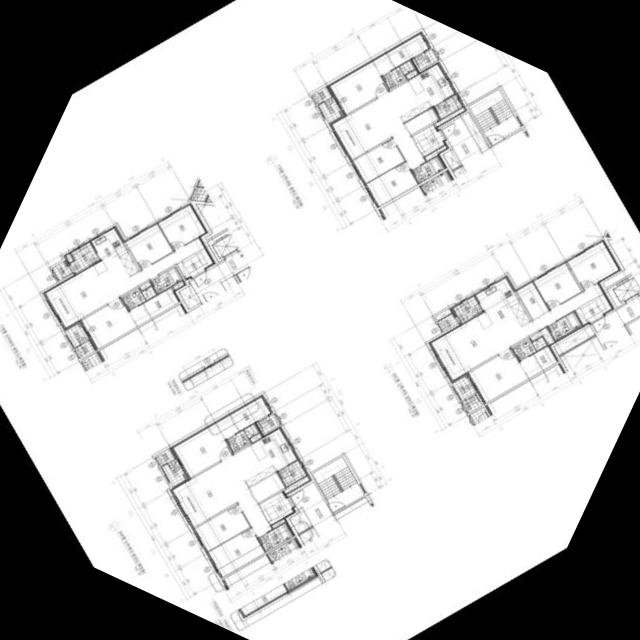background: (0, 0, 640, 640)
space_balconi: (449, 294, 482, 324), (69, 242, 99, 274), (277, 460, 306, 487), (433, 94, 461, 119), (161, 459, 185, 486), (451, 376, 475, 400), (318, 97, 340, 123), (64, 324, 88, 347)
space_bedroom: (466, 349, 527, 404), (172, 422, 232, 477), (329, 61, 387, 114), (79, 298, 136, 350), (208, 527, 264, 577), (566, 239, 620, 290), (194, 504, 249, 551), (532, 261, 580, 309), (352, 139, 404, 183), (366, 162, 417, 206), (125, 224, 172, 269), (158, 205, 205, 250)
space_dressroom: (215, 395, 270, 439), (371, 34, 428, 76), (129, 287, 180, 325), (519, 345, 558, 378)
space_elevator: (206, 230, 239, 262)
space_elevator_hall: (590, 296, 640, 350), (189, 251, 249, 295), (289, 482, 335, 531), (440, 116, 481, 164)
space_front: (261, 496, 294, 525), (574, 298, 605, 326), (176, 252, 206, 280), (414, 130, 445, 157)
space_kitchen: (386, 64, 454, 123), (473, 275, 530, 345), (230, 428, 296, 487), (90, 225, 138, 285)
space_living_room: (427, 282, 604, 383), (42, 237, 203, 330), (172, 456, 271, 537), (331, 93, 425, 169)
space_other: (559, 336, 604, 371), (514, 280, 548, 319), (553, 325, 594, 355), (460, 112, 488, 152), (249, 472, 284, 503), (404, 107, 438, 134), (333, 497, 367, 519), (178, 281, 202, 309), (289, 507, 311, 534), (434, 107, 464, 126), (283, 475, 311, 495), (259, 491, 286, 510), (414, 49, 437, 70), (530, 327, 554, 345), (594, 293, 613, 315), (412, 125, 436, 142), (442, 149, 461, 170), (196, 247, 215, 268), (258, 414, 279, 433), (52, 261, 73, 280), (462, 393, 481, 412), (424, 145, 446, 160), (434, 308, 451, 321), (172, 280, 186, 291), (271, 518, 285, 528), (405, 70, 417, 79), (249, 433, 261, 442), (63, 252, 72, 263), (139, 282, 150, 290)
space_outdoor_room: (311, 86, 331, 104), (74, 340, 94, 358), (155, 448, 174, 466), (437, 314, 457, 331)
space_staircase: (312, 456, 364, 513), (468, 89, 520, 145)
space_toilet: (547, 311, 581, 340), (258, 523, 292, 551), (381, 60, 414, 88), (226, 424, 258, 452), (411, 156, 444, 183), (150, 266, 182, 293), (121, 286, 156, 310), (512, 336, 546, 360)
